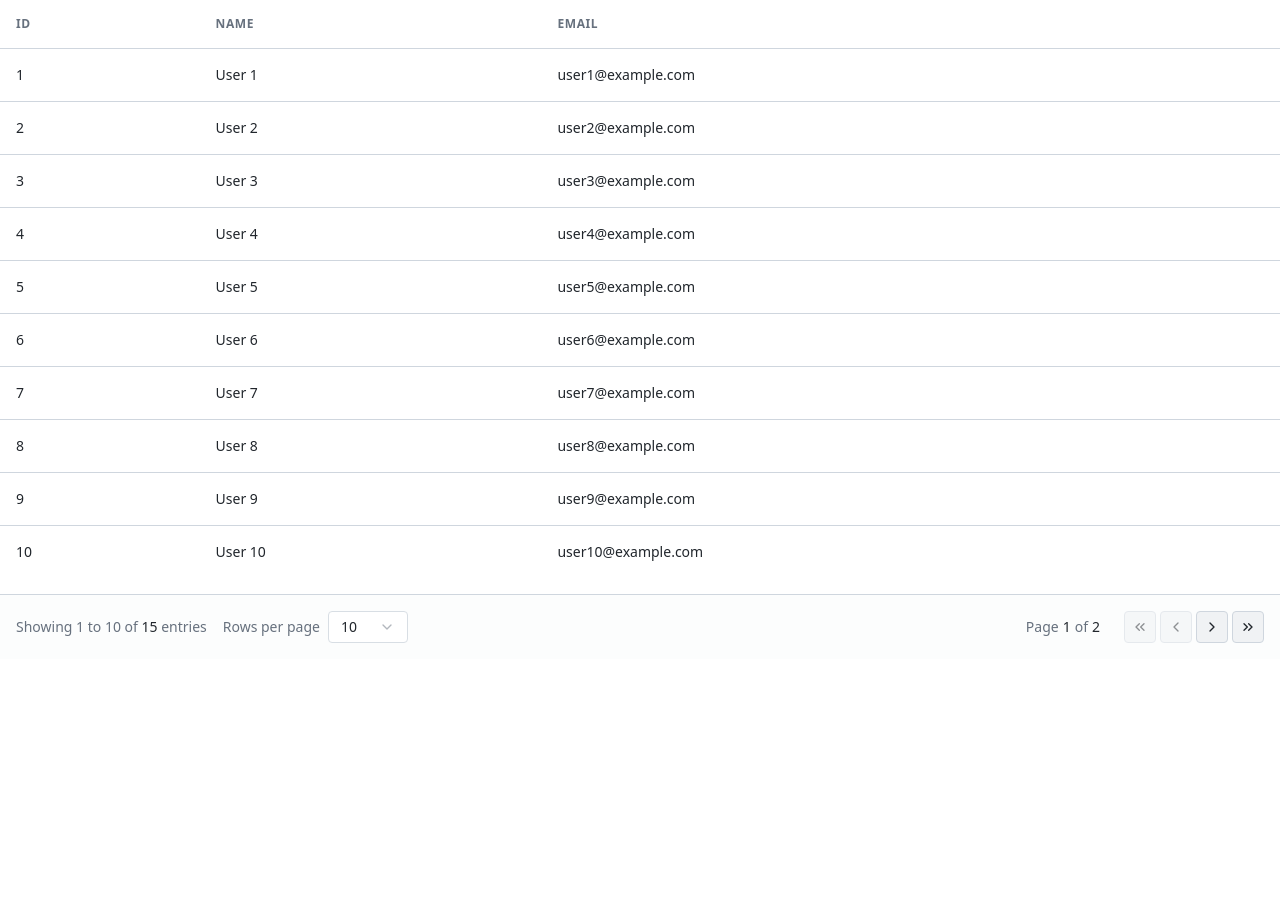
Test case: DataTable › next page button is disabled on last page
This screenshot has width=1280, height=900.
Click the 4th button named "go to last page": click(1248, 626) [1232,610,1264,642]
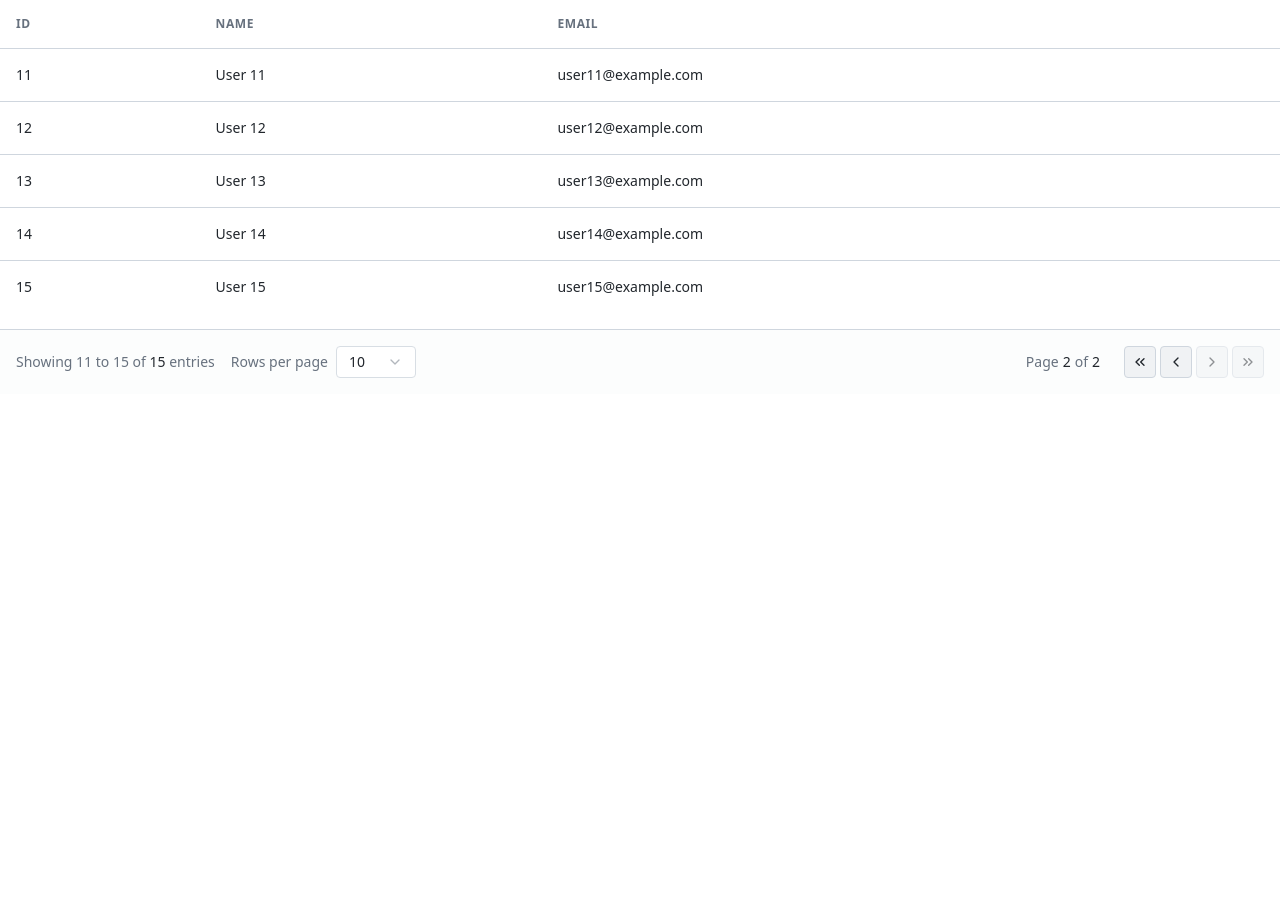
expect the 3rd button named "go to next page" is disabled: met, box [1196,346,1228,378]
